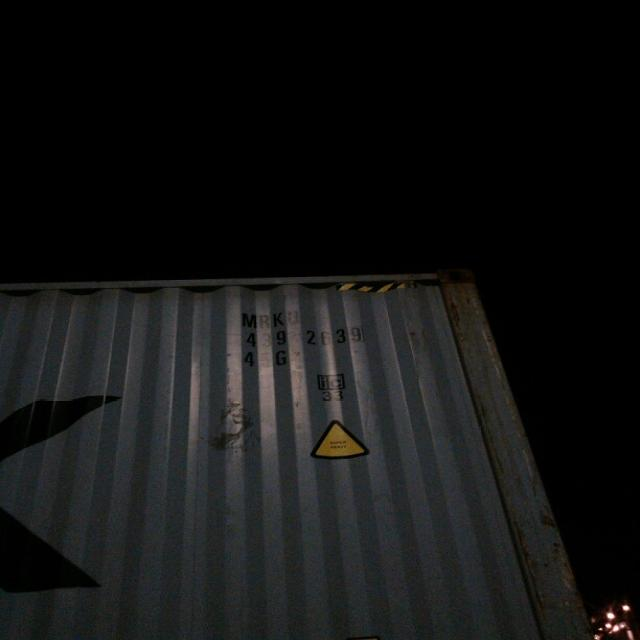rust: (509, 507, 599, 640), (438, 269, 490, 349), (200, 399, 265, 458)
